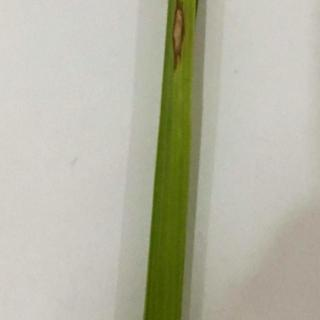Blast: (168, 0, 188, 68)
